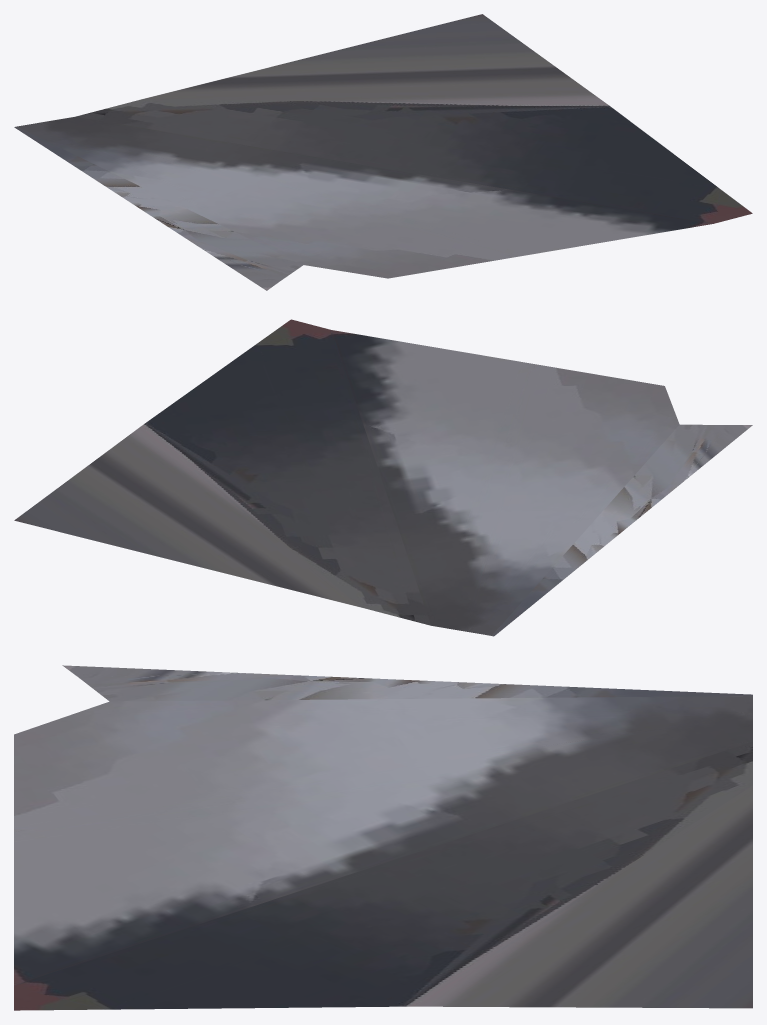
The picture shows the model from 3 angles, top to bottom: view 1: azimuth 30°, elevation 25°; view 2: azimuth 150°, elevation 25°; view 3: azimuth 270°, elevation 25°; orthographic projection. The views are drawn at different scales.
Size of the model in its own units: 10.44 by 0.5487 by 10.44.
Materials: 2 (2 with a texture image).
